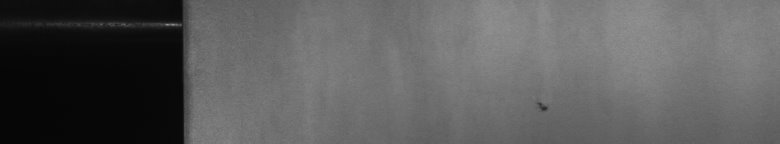fi: (536, 96, 552, 117)
